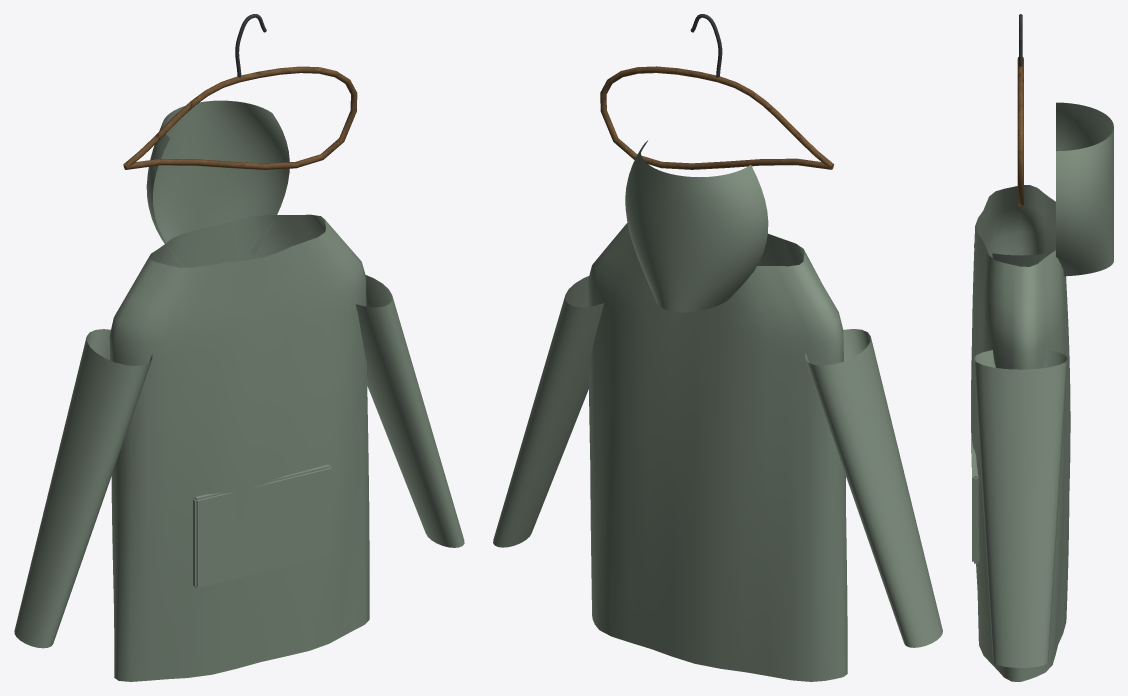
Rendered from sku_v23_hoodie.glb.
3 views of the same model, side by side, from view 1: azimuth 30°, elevation 25°; view 2: azimuth 150°, elevation 25°; view 3: azimuth 270°, elevation 25° (orthographic). The views are drawn at different scales.
Visible parts, largest first — view 1: sku_v23_hoodie_Woven_2, sku_v23_hoodie_CC0_Oak_veneer; view 2: sku_v23_hoodie_Woven_2, sku_v23_hoodie_CC0_Oak_veneer; view 3: sku_v23_hoodie_Woven_2, sku_v23_hoodie_CC0_Oak_veneer.
Part boxes in pixels (x1,y1,x2,y2): sku_v23_hoodie_Woven_2: (14,100,464,681); sku_v23_hoodie_CC0_Oak_veneer: (123,66,357,169); sku_v23_hoodie_Woven_2: (493,140,942,681); sku_v23_hoodie_CC0_Oak_veneer: (600,66,833,169); sku_v23_hoodie_Woven_2: (971,102,1113,681); sku_v23_hoodie_CC0_Oak_veneer: (1017,57,1023,206).
Size of the model in its own units: 0.7673 by 1.05 by 0.2225.
3 materials, 1 textured.
